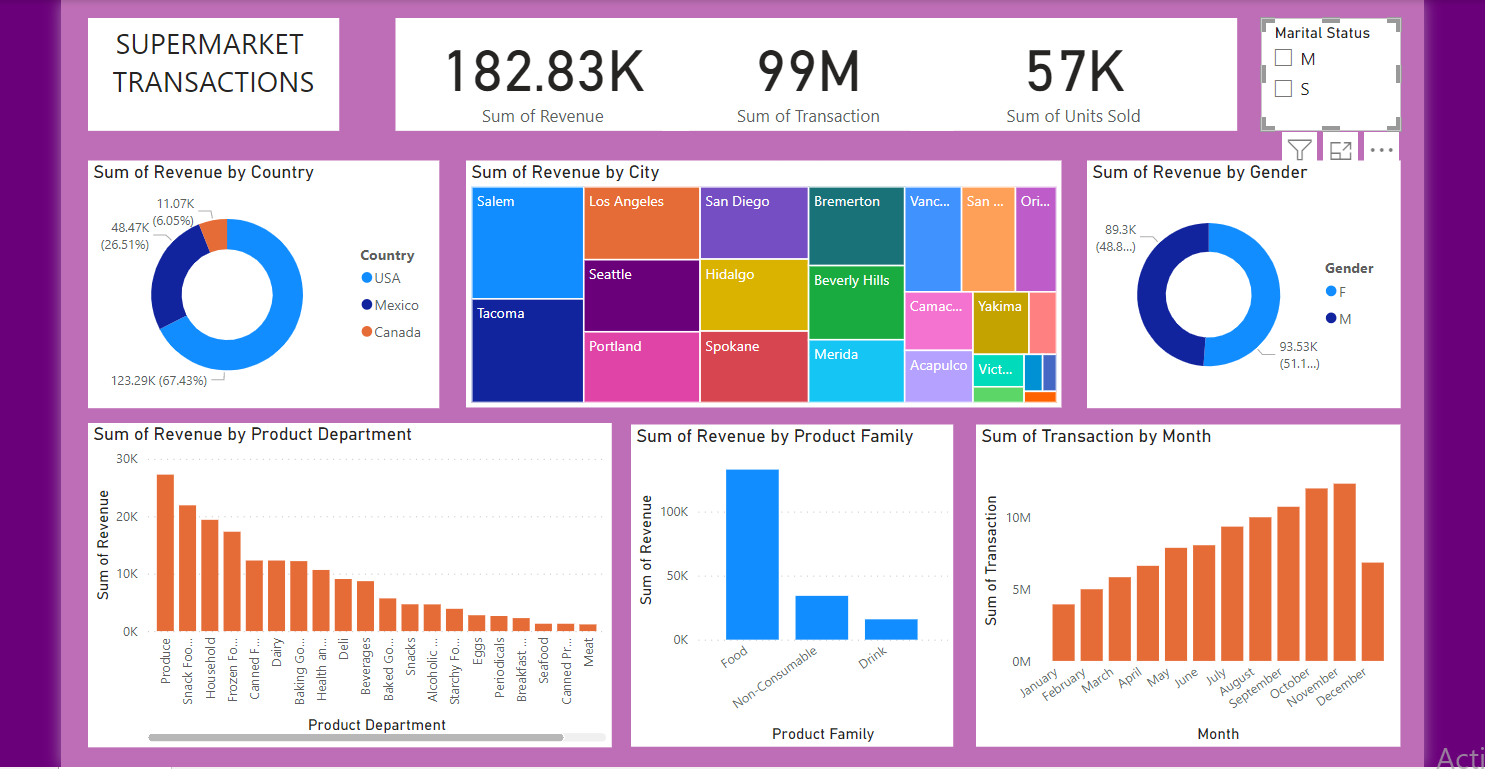

The page's visual inventory and layout, read from the dashboard file:
{"tool":"powerbi","page":{"name":"Page 1","canvas":[1280,720],"ordinal":0},"visuals":[{"type":"columnChart","fields":{"Y":["Sum(Data.Revenue)"],"Category":["Data.Product Department"]},"box":[25.4,397.3,491.7,304.3],"z":0},{"type":"columnChart","fields":{"Category":["Data.Product Family"],"Y":["Sum(Data.Revenue)"]},"box":[535.4,398.7,302.9,302.9],"z":1000},{"type":"slicer","fields":{"Values":["Data.Marital Status"]},"box":[1127.2,16.9,131,105.7],"z":2000},{"type":"card","fields":{"Values":["Sum(Data.Revenue)"]},"box":[314.2,16.9,276.2,105.7],"z":3000},{"type":"card","fields":{"Values":["Sum(Data.Transaction)"]},"box":[565,16.9,273.3,105.7],"z":4000},{"type":"card","fields":{"Values":["Sum(Data.Units Sold)"]},"box":[797.5,16.9,307.2,105.7],"z":5000},{"type":"textbox","box":[26,16.7,235.8,105.8],"z":6000},{"type":"donutChart","fields":{"Category":["Data.Country"],"Y":["Sum(Data.Revenue)"]},"box":[25.4,150.8,329.7,232.5],"z":7000},{"type":"treemap","fields":{"Group":["Data.City"],"Values":["Sum(Data.Revenue)"]},"box":[379.9,151,559.5,232.1],"z":8000},{"type":"donutChart","fields":{"Y":["Sum(Data.Revenue)"],"Series":["Data.Gender"]},"box":[963.8,150.8,294.5,232.5],"z":9000},{"type":"columnChart","fields":{"Category":["Data.Purchase Date.Variation.Date Hierarchy.Month"],"Y":["Sum(Data.Revenue)"]},"box":[859.5,398.7,398.7,302.9],"z":10000}]}

Visuals, with their boxes in screenshot pixels (x1, y1, x2, y2):
columnChart - Sum(Data.Revenue) x Data.Product Department: 93:419:611:740
columnChart - Data.Product Family x Sum(Data.Revenue): 630:420:949:740
slicer - Data.Marital Status: 1254:18:1392:129
card - Sum(Data.Revenue): 397:18:688:129
card - Sum(Data.Transaction): 661:18:949:129
card - Sum(Data.Units Sold): 906:18:1230:129
textbox: 93:18:342:129
donutChart - Data.Country x Sum(Data.Revenue): 93:159:440:404
treemap - Data.City x Sum(Data.Revenue): 466:159:1056:404
donutChart - Sum(Data.Revenue) x Data.Gender: 1082:159:1392:404
columnChart - Data.Purchase Date.Variation.Date Hierarchy.Month x Sum(Data.Revenue): 972:420:1392:740
